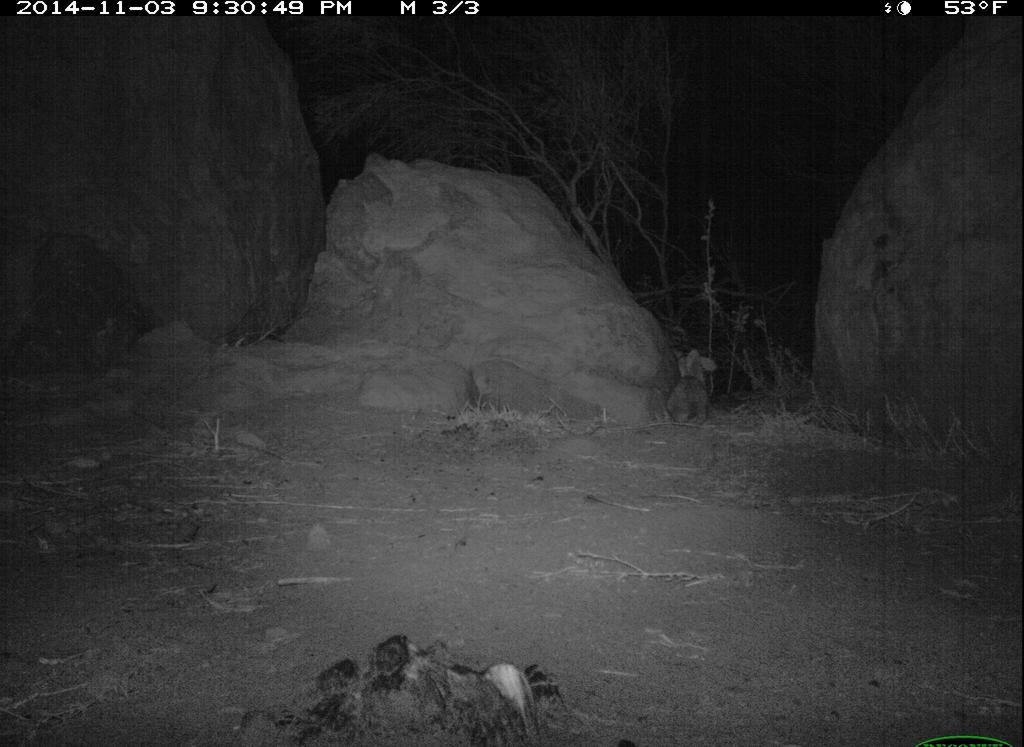rabbit: (665, 342, 720, 437)
